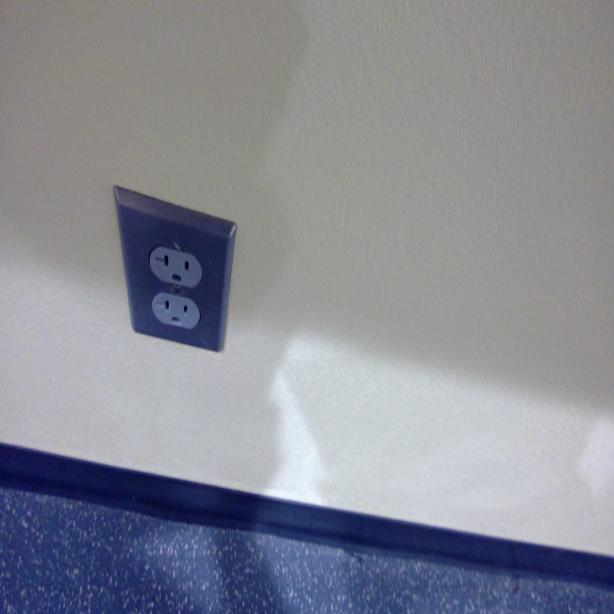typeb: (154, 250, 196, 285), (154, 294, 190, 334)
